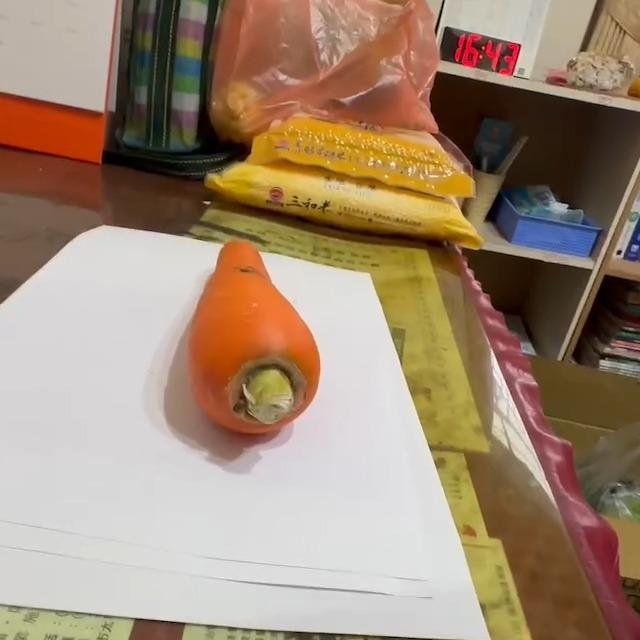carrot: (186, 238, 326, 446)
